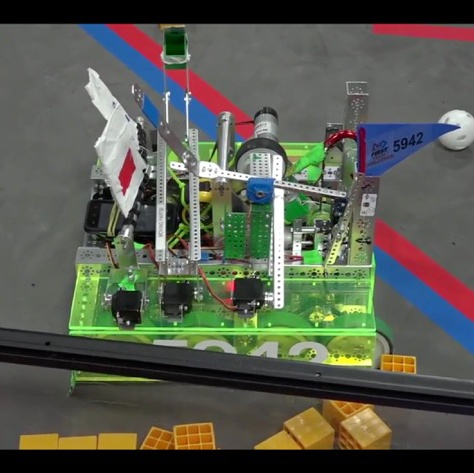robot: (65, 22, 464, 373)
